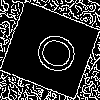O: (25, 25, 80, 79)
